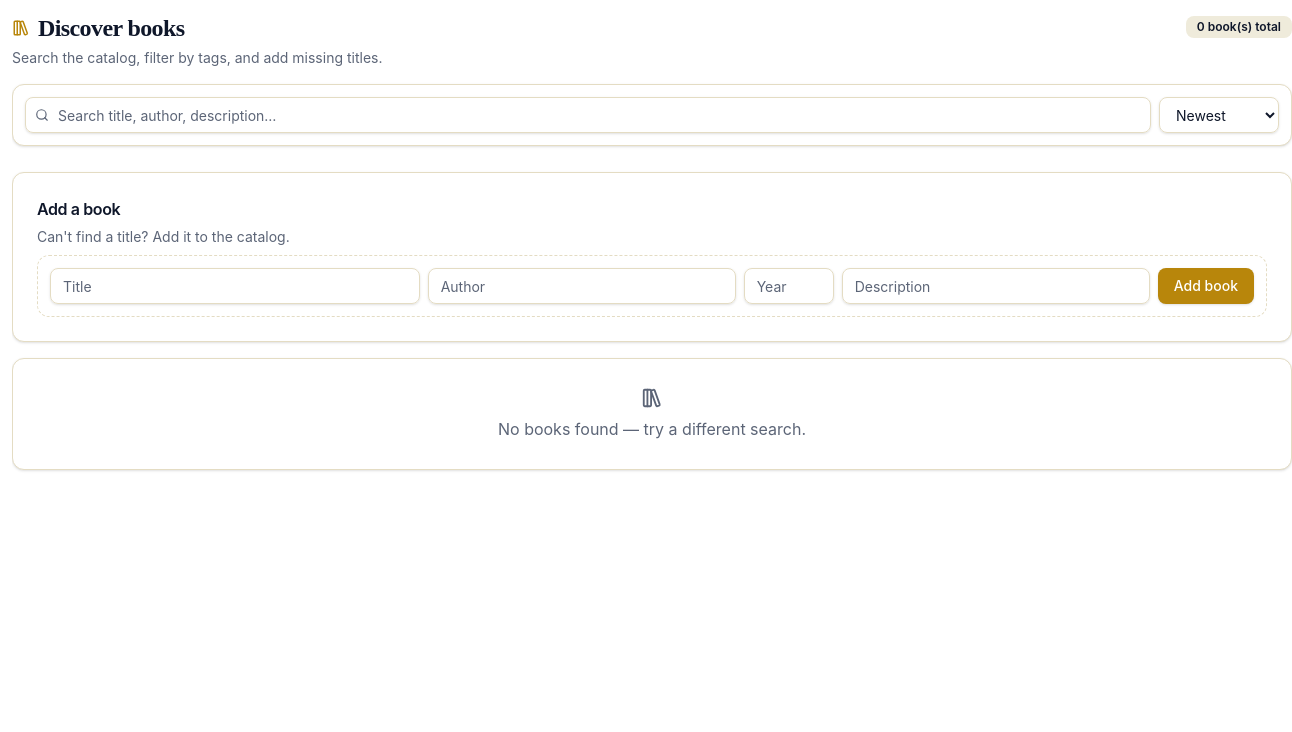
books list › typing a known title shows the duplicate hint
The width and height of the screenshot is (1292, 732).
Type "Dune" into the field with placeholder "Title". click: (235, 286)
box: [50, 268, 420, 304]
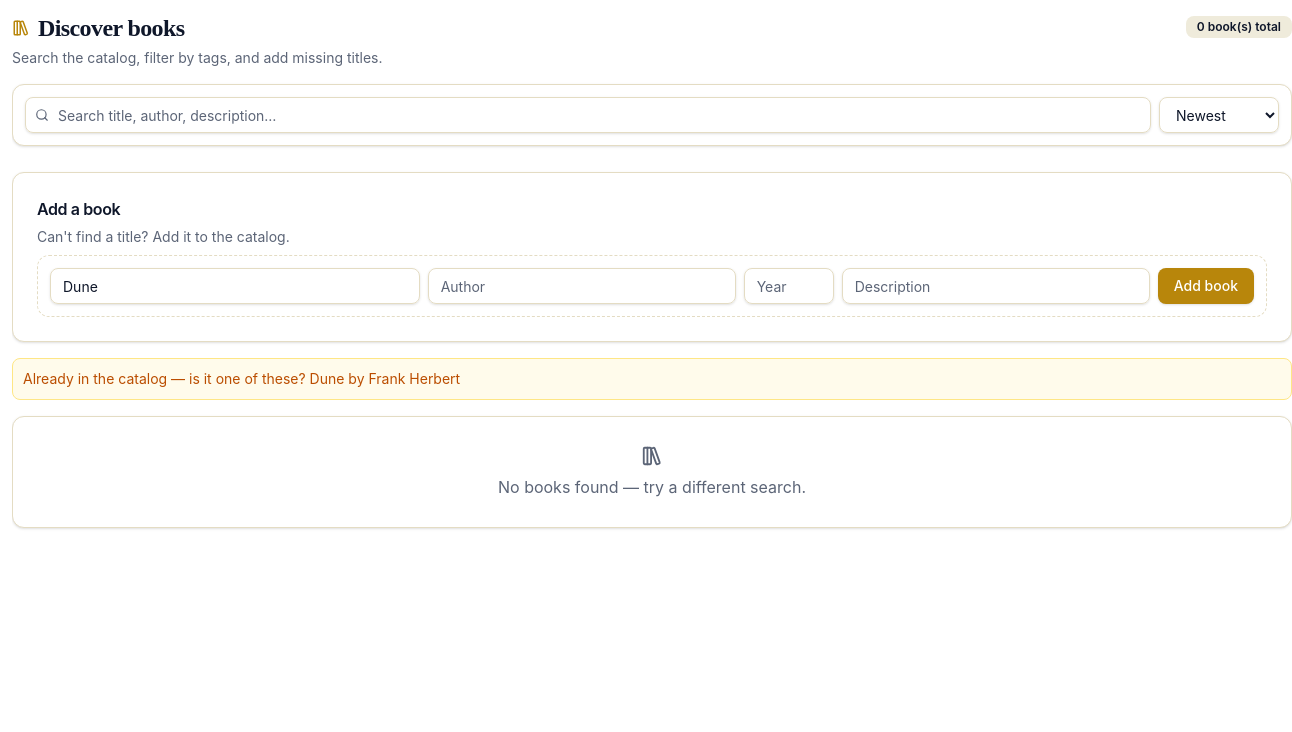
Expected: the text "Already in the catalog" is shown, [23, 370, 306, 387]
